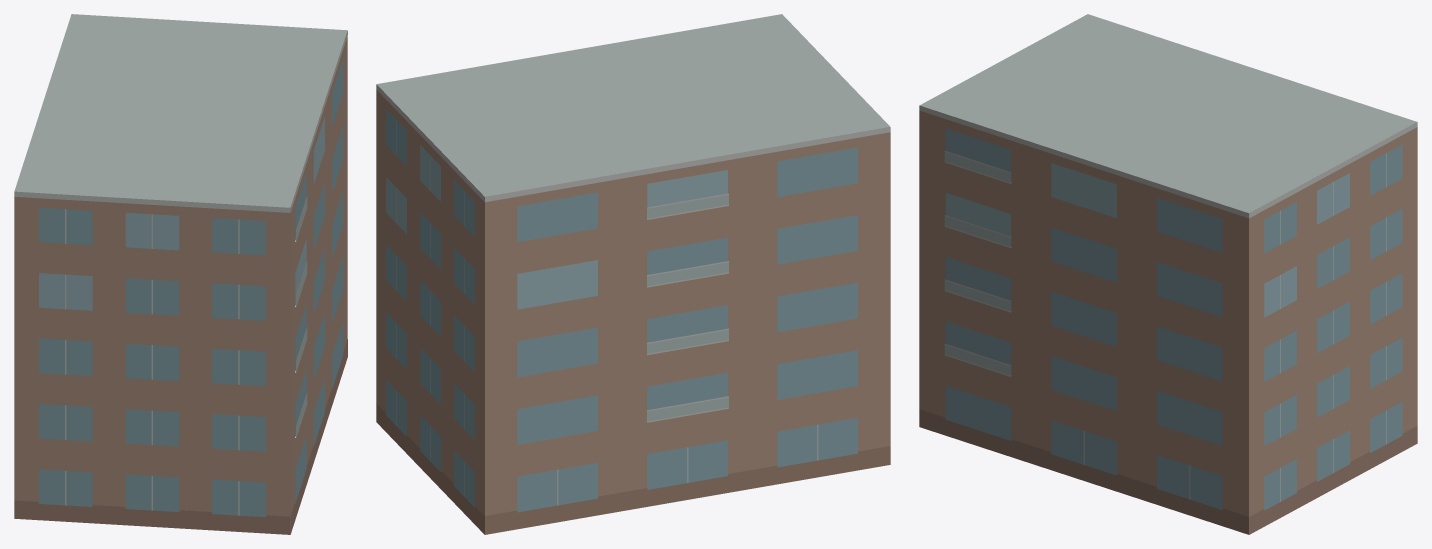
The model's file is survey-upis-32975254.glb.
3 views of the same model, side by side, from view 1: azimuth 30°, elevation 25°; view 2: azimuth 150°, elevation 25°; view 3: azimuth 270°, elevation 25° (orthographic). The views are drawn at different scales.
Visible parts, largest first — view 1: survey-upis-32975254.tmp; view 2: survey-upis-32975254.tmp; view 3: survey-upis-32975254.tmp.
Part boxes in pixels (x1=…): survey-upis-32975254.tmp: x1=14, y1=14, x2=347, y2=534; survey-upis-32975254.tmp: x1=376, y1=14, x2=890, y2=534; survey-upis-32975254.tmp: x1=919, y1=14, x2=1417, y2=534.
Size of the model in its own units: 20.52 by 15.43 by 21.67.
